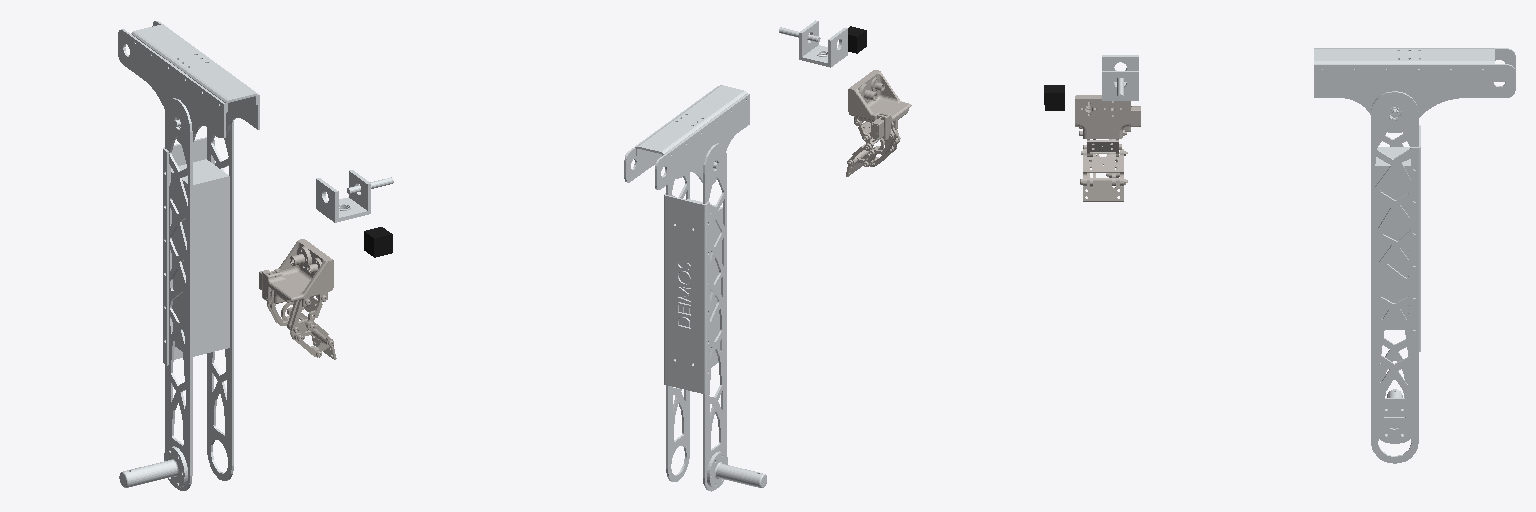
--- Facts derived from the render (not from the file) ---
Views: 3 orthographic renders of the robot side by side, from view 1: azimuth 30°, elevation 25°; view 2: azimuth 150°, elevation 25°; view 3: azimuth 270°, elevation 25°.
Model Arm_Urdf with 11 links and 10 joints (6 revolute, 2 prismatic, 2 fixed), rooted at world, posed all joints at 0.
Links seen in each view (by area): view 1: Link_2, Link_3, Gripper_1, Link_5, camera_link2; view 2: Link_2, Link_3, Gripper_1, Link_5; view 3: Link_2, Link_3, Gripper_1, Link_5, camera_link2.
Link boxes in pixels (x1,y1,x2,y2): Link_2: (119, 98, 233, 490); Link_3: (118, 21, 259, 144); Gripper_1: (259, 239, 336, 359); Link_5: (316, 170, 393, 222); camera_link2: (364, 227, 392, 257); Link_2: (664, 143, 766, 491); Link_3: (624, 85, 749, 189); Gripper_1: (846, 70, 911, 176); Link_5: (779, 20, 847, 67); Link_2: (1371, 91, 1420, 463); Link_3: (1314, 48, 1515, 132); Gripper_1: (1075, 95, 1140, 201); Link_5: (1102, 55, 1138, 100); camera_link2: (1044, 85, 1064, 110).
Bounding box of the posed robot: 0.1731 × 0.5855 × 0.5475 m (x, y, z).
4 mesh visuals loaded from 9 distinct referenced files (4 binary STL); not drawn: 5 (reference not matched to a file when rendering).

robot.urdf — Arm_Urdf:
<?xml version="1.0" encoding="utf-8" ?>
<!-- This URDF was automatically created by SolidWorks to URDF Exporter! Originally created by Stephen Brawner ([email redacted]) 
     Commit Version: 1.6.0-4-g7f85cfe  Build Version: 1.6.7995.38578
     For more information, please see http://wiki.ros.org/sw_urdf_exporter -->
<robot name="Arm_Urdf">
    <material name="black">
        <color rgba="0.15 0.15 0.15 1.0"/>
    </material>
    <link name="base_link">
        <inertial>
            <origin xyz="-0.0108454625152952 5.41174924359317E-05 0.006809784336333" rpy="0 0 0" />
            <mass value="0.77116648882986" />
            <inertia ixx="0.000698139677914449" ixy="-9.98098781596937E-09" ixz="-4.42589020292821E-09" iyy="0.000247085234791679" iyz="-7.75794099442475E-09" izz="0.000718421438540256" />
        </inertial>
        <visual>
            <origin xyz="0 0 0" rpy="0 0 0" />
            <geometry>
                <mesh filename="package://Arm_Urdf/meshes/base_link.STL" />
            </geometry>
            <material name="">
                <color rgba="0.650980392156863 0.619607843137255 0.588235294117647 1" />
            </material>
        </visual>
        <collision>
            <origin xyz="0 0 0" rpy="0 0 0" />
            <geometry>
                <mesh filename="package://Arm_Urdf/meshes/base_link.STL" />
            </geometry>
        </collision>
    </link>
    <link name="world" />
    <joint name="world_joint" type="fixed">
        <origin xyz="0 0 0.0" rpy="0 0 0" />
        <parent link="world" />
        <child link="base_link" />
    </joint>
    <link name="Link_1">
        <inertial>
            <origin xyz="0.00202559488051276 0.0292417340051791 0.0299779266003479" rpy="0 0 0" />
            <mass value="2.19576081627391" />
            <inertia ixx="0.00622314668686051" ixy="2.69943075030139E-08" ixz="-1.96744672740614E-07" iyy="0.00460468862088576" iyz="-6.43893757821027E-05" izz="0.00970799857789177" />
        </inertial>
        <visual>
            <origin xyz="0 0 0" rpy="0 0 0" />
            <geometry>
                <mesh filename="package://Arm_Urdf/meshes/Link_1.STL" />
            </geometry>
            <material name="">
                <color rgba="0.529411764705882 0.549019607843137 0.549019607843137 1" />
            </material>
        </visual>
        <collision>
            <origin xyz="0 0 0" rpy="0 0 0" />
            <geometry>
                <mesh filename="package://Arm_Urdf/meshes/Link_1.STL" />
            </geometry>
        </collision>
    </link>
    <joint name="Joint_1" type="revolute">
        <origin xyz="0 0 0.073" rpy="0 0 0" />
        <parent link="base_link" />
        <child link="Link_1" />
        <axis xyz="0 0 1" />
        <limit lower="-3.17" upper="3.17" effort="50" velocity="5" />
        <dynamics damping="0.5" friction="0.1"/>
    </joint>

    <!-- camera base left -->


    <!-- <joint name="camera_joint_base_left" type="fixed">
        <axis xyz="0 1 0"/>
        <origin rpy="0 0 -1.57" xyz="0.12 -0.15 0.02"/>
        <parent link="Link_1"/>
        <child link="camera_link_base_left"/>
    </joint>


    <link name="camera_link_base_left">
        <inertial>
            <mass value="1e-5"/>
            <origin rpy="0 0 0" xyz="0 -0.02 0.02"/>
            <inertia ixx="1e-6" ixy="0" ixz="0" iyy="1e-6" iyz="0" izz="1e-6"/>
        </inertial>
        <collision>
            <origin rpy="0 0 -1.570" xyz="0 0 0"/>
            <geometry>
                <box size="0.025 0.025 0.025"/>
            </geometry>
        </collision>
        <visual>
            <origin rpy="0 0 -1.570" xyz="0 0 0"/>
            <geometry>
                <box size="0.025 0.025 0.025"/>
            </geometry>
            <material name="black">
                <color rgba="1 1 1 1"/>
            </material>
        </visual>
    </link>

    <joint name="camera_optical_joint_base_left" type="fixed">
        <parent link="camera_link_base_left"/>
        <child link="camera_link_optical_base_left"/>
        <origin xyz="0 0 0" rpy="-1.5707963 0 -1.5707963"/>
    </joint>

    <link name="camera_link_optical_base_left"></link> -->


    <!-- camera base right -->


    <!-- <joint name="camera_base_joint_right" type="fixed">
        <axis xyz="0 1 0"/>
        <origin rpy="0 0 -1.57" xyz="-0.12 -0.15 0.1"/>
        <parent link="Link_1"/>
        <child link="camera_link_base_right"/>
    </joint>

    <link name="camera_link_base_right">
        <inertial>
            <mass value="1e-5"/>
            <origin rpy="0 0 0" xyz="0 -0.02 0.02"/>
            <inertia ixx="1e-6" ixy="0" ixz="0" iyy="1e-6" iyz="0" izz="1e-6"/>
        </inertial>
        <collision>
            <origin rpy="0 0 -1.570" xyz="0 0 0"/> 
            <geometry>
                <box size="0.025 0.025 0.025"/>
            </geometry>
        </collision>
        <visual>
            <origin rpy="0 0 -1.570" xyz="0 0 0"/>
            <geometry>
                <box size="0.025 0.025 0.025"/>
            </geometry>
            <material name="black">
                <color rgba="1 1 1 1"/>
            </material>
        </visual>
    </link> -->

    <!-- <joint name="camera_optical_joint_base_right" type="fixed">
        <parent link="camera_link_base_right"/>
        <child link="camera_link_optical_base_right"/>
        <origin xyz="0 0 0" rpy="-1.5707963 0 -1.5707963"/>
    </joint>

    <link name="camera_link_optical_base_right"></link> -->


    <!-- Add camera optical frame with standard computer vision orientation -->
    <!-- <joint name="camera_optical_joint" type="fixed">
    <origin rpy="-1.5707963 0 -1.5707963" xyz="0.0 0.0 0.0"/>
    <parent link="camera_link"/>
    <child link="camera_optical_link"/>
  </joint>
  <link name="camera_optical_link">
  </link> -->

    <link name="Link_2">
        <inertial>
            <origin xyz="0.0039680486454326 0.217484463914853 0.0226240865668204" rpy="0 0 0" />
            <mass value="0.696616277349387" />
            <inertia ixx="0.00867448656134372" ixy="-1.47433814721146E-05" ixz="-2.58004719868412E-09" iyy="0.000403909974825226" iyz="4.87457749930191E-10" izz="0.00872331013959563" />
        </inertial>
        <visual>
            <origin xyz="0 0 0" rpy="0 0 0" />
            <geometry>
                <mesh filename="package://Arm_Urdf/meshes/Link_2.STL" />
            </geometry>
            <material name="">
                <color rgba="0.898039215686275 0.917647058823529 0.929411764705882 1" />
            </material>
        </visual>

        <collision>
            <origin xyz="0 0 0" rpy="0 0 0" />
            <geometry>
                <mesh filename="package://Arm_Urdf/meshes/Link_2.STL" />
            </geometry>
        </collision>
    </link>

    <joint name="Joint_2" type="revolute">
        <origin xyz="-0.0299999999999999 0.114999999999999 0.0450000000000004" rpy="1.5707963267949 0 1.5707963267949" />
        <parent link="Link_1" />
        <child link="Link_2" />
        <axis xyz="0 0 -1" />
        <limit lower="-1.570" upper="1.57" effort="50" velocity="5" />
        <dynamics damping="0.5" friction="0.1"/>
    </joint>
    <link name="Link_3">
        <inertial>
            <origin xyz="0.0159437073865258 0.0399778044221051 0.000165930315254696" rpy="0 0 0" />
            <mass value="0.504770554183686" />
            <inertia ixx="0.000217244480297463" ixy="-3.21837262846156E-05" ixz="1.05210946108765E-18" iyy="0.00156585111098331" iyz="-2.22489334296148E-07" izz="0.00165843696768256" />
        </inertial>
        <visual>
            <origin xyz="0 0 0" rpy="0 0 0" />
            <geometry>
                <mesh filename="package://Arm_Urdf/meshes/Link_3.STL" />
            </geometry>
            <material name="">
                <color rgba="0.898039215686275 0.917647058823529 0.929411764705882 1" />
            </material>
        </visual>
        <collision>
            <origin xyz="0 0 0" rpy="0 0 0" />
            <geometry>
                <mesh filename="package://Arm_Urdf/meshes/Link_3.STL" />
            </geometry>
        </collision>
    </link>
    <joint name="Joint_3" type="revolute">
        <origin xyz="0 0.45 0.0301042347134805" rpy="0 0 0" />
        <parent link="Link_2" />
        <child link="Link_3" />
        <axis xyz="0 0 -1" />
        <limit lower="-1.00" upper="1.00" effort="50" velocity="5" />
        <dynamics damping="0.5" friction="0.10"/>
    </joint>
    <link name="Link_4">
        <inertial>
            <origin xyz="0.00264954149583032 0.00172553243144247 -0.256832165659789" rpy="0 0 0" />
            <mass value="0.739327182415655" />
            <inertia ixx="0.00148243608862922" ixy="-2.48364112345643E-07" ixz="-1.03283742873345E-07" iyy="0.00143272022403598" iyz="5.43371774425014E-06" izz="0.000309171282333902" />
        </inertial>
        <visual>
            <origin xyz="0 0 0" rpy="0 0 0" />
            <geometry>
                <mesh filename="package://Arm_Urdf/meshes/Link_4.STL" />
            </geometry>
            <material name="">
                <color rgba="0.898039215686275 0.917647058823529 0.929411764705882 1" />
            </material>
        </visual>
        <collision>
            <origin xyz="0 0 0" rpy="0 0 0" />
            <geometry>
                <mesh filename="package://Arm_Urdf/meshes/Link_4.STL" />
            </geometry>
        </collision>
    </link>
    <joint name="Joint_4" type="revolute">
        <origin xyz="0.0424999999995649 0.0399572355492206 0.000401106428108807" rpy="0 1.5707963267949 0" />
        <parent link="Link_3" />
        <child link="Link_4" />
        <axis xyz="0 0 1" />
        <limit lower="-3.17" upper="3.17" effort="50" velocity="5" />
        <dynamics damping="0.5" friction="0.1"/>
    </joint>
    <link name="Link_5">
        <inertial>
            <origin xyz="-3.16885406803635E-13 -0.00981221204232474 0.00224881068265584" rpy="0 0 0" />
            <mass value="0.0763957117756357" />
            <inertia ixx="3.83083473961502E-05" ixy="3.17560849313193E-16" ixz="2.01751281333396E-17" iyy="4.00747073118559E-05" iyz="-4.08795655667539E-17" izz="2.28558461666204E-05" />
        </inertial>
        <visual>
            <origin xyz="0 0 0" rpy="0 0 0" />
            <geometry>
                <mesh filename="package://Arm_Urdf/meshes/Link_5.STL" />
            </geometry>
            <material name="">
                <color rgba="0.898039215686275 0.917647058823529 0.929411764705882 1" />
            </material>
        </visual>
        <collision>
            <origin xyz="0 0 0" rpy="0 0 0" />
            <geometry>
                <mesh filename="package://Arm_Urdf/meshes/Link_5.STL" />
            </geometry>
        </collision>
    </link>
    <joint name="Joint_5" type="revolute">
        <origin xyz="-0.00649999999995384 0 -0.383499999999573" rpy="0 1.5707963267949 0" />
        <parent link="Link_4" />
        <child link="Link_5" />
        <axis xyz="0 0 1" />
        <limit lower="-0.065" upper="3.17" effort="50" velocity="5" />
        <dynamics damping="0.5" friction="0.10"/>
    </joint>
    <link name="Link_6">
        <inertial>
            <origin xyz="0.0135613456334422 -0.0265420912928073 0.0301408683365089" rpy="0 0 0" />
            <mass value="0.252745339929401" />
            <inertia ixx="0.000195067050160143" ixy="2.5230798194637E-05" ixz="6.2223463246536E-05" iyy="0.000903429764130728" iyz="-1.48620728173967E-05" izz="0.000993241239460536" />
        </inertial>
        <visual>
            <origin xyz="0 0 0" rpy="0 0 0" />
            <geometry>
                <mesh filename="package://Arm_Urdf/meshes/Link_6.STL" />
            </geometry>
            <material name="">
                <color rgba="0.898039215686275 0.917647058823529 0.929411764705882 1" />
            </material>
        </visual>
        <collision>
            <origin xyz="0 0 0" rpy="0 0 0" />
            <geometry>
                <mesh filename="package://Arm_Urdf/meshes/Link_6.STL" />
            </geometry>
        </collision>
    </link>
    <joint name="Joint_6" type="revolute">
        <origin xyz="0 -0.0199999999999119 0.00650441096988074" rpy="1.5707963267949 -1.5707963267949 0" />
        <parent link="Link_5" />
        <child link="Link_6" />
        <axis xyz="0 0 1" />
        <limit lower="-3.17" upper="3.17" effort="50" velocity="5" />
        <dynamics damping="0.5" friction="0.10"/>
    </joint>
    <joint name="camera_joint2" type="fixed">
        <axis xyz="0 1 0"/>
        <origin rpy="0 -1.57 1.57" xyz="0.0 -0.082 0.012"/>
        <parent link="Link_6"/>
        <child link="camera_link2"/>
    </joint>
    <link name="camera_link2">
        <inertial>
            <mass value="1e-5"/>
            <origin rpy="0 0 0" xyz="0.0 -0.082 0.012"/>
            <inertia ixx="1e-6" ixy="0" ixz="0" iyy="1e-6" iyz="0" izz="1e-6"/>
        </inertial>
        <collision>
            <origin rpy="0 0 0" xyz="0 0 0"/>
            <geometry>
                <box size="0.025 0.025 0.025"/>
            </geometry>
        </collision>
        <visual>
            <origin rpy="0 0 0" xyz="0 0 0"/>
            <geometry>
                <box size="0.025 0.025 0.025"/>
            </geometry>
            <material name="black"/>
        </visual>
    </link>
    <link name="Gripper_1">
        <inertial>
            <origin xyz="0.0204003994868009 0.0334764538131697 0.063230838084357" rpy="0 0 0" />
            <mass value="0.137742996071251" />
            <inertia ixx="5.29911205654385E-05" ixy="-1.12421617290008E-06" ixz="-2.49192530851908E-06" iyy="7.19109477567595E-05" iyz="-1.11448830844399E-05" izz="6.43837075224686E-05" />
        </inertial>
        <visual>
            <origin xyz="0 0 0" rpy="0 0 0" />
            <geometry>
                <mesh filename="package://Arm_Urdf/meshes/Gripper_1.STL" />
            </geometry>
            <material name="">
                <color rgba="0.776470588235294 0.756862745098039 0.737254901960784 1" />
            </material>
        </visual>
        <collision>
            <origin xyz="0 0 0" rpy="0 0 0" />
            <geometry>
                <mesh filename="package://Arm_Urdf/meshes/Gripper_1.STL" />
            </geometry>
        </collision>
    </link>
    <joint name="Finger_1" type="prismatic">
        <origin xyz="0.00534999999999963 -0.0390954035350414 0.0487946645392847" rpy="1.5707963267949 0 1.5707963267949" />
        <parent link="Link_6" />
        <child link="Gripper_1" />
        <axis xyz="0 0 -1" />
        <limit lower="0" upper="0.0355" effort="100" velocity="10" />
        <dynamics damping="0.5" friction="0.1" />
    </joint>
    <link name="Gripper_2">
        <inertial>
            <origin xyz="-0.0145607269510522 0.0386349312979239 -0.0735904539348097" rpy="0 0 0" />
            <mass value="0.153524806277575" />
            <inertia ixx="5.29298080219616E-05" ixy="1.90492712258527E-06" ixz="-3.08938743832324E-06" iyy="7.11796554106749E-05" iyz="1.10602892279447E-05" izz="6.37754371292033E-05" />
        </inertial>
        <visual>
            <origin xyz="0 0 0" rpy="0 0 0" />
            <geometry>
                <mesh filename="package://Arm_Urdf/meshes/Gripper_2.STL" />
            </geometry>
            <material name="">
                <color rgba="0.776470588235294 0.756862745098039 0.737254901960784 1" />
            </material>
        </visual>
        <collision>
            <origin xyz="0 0 0" rpy="0 0 0" />
            <geometry>
                <mesh filename="package://Arm_Urdf/meshes/Gripper_2.STL" />
            </geometry>
        </collision>
    </link>
    <joint name="Finger_2" type="prismatic">
        <dynamics damping="0.5" friction="0.1" />
        <origin xyz="0.00534999999999963 -0.0390954035350414 0.0487946645392847" rpy="1.5707963267949 0 1.5707963267949" />
        <parent link="Link_6" />
        <child link="Gripper_2" />
        <axis xyz="0 0 -1" />
        <limit lower="-0.0355" upper="0" effort="100" velocity="10" />
    </joint>
    <transmission name="trans_Joint_1">
        <type>transmission_interface/SimpleTransmission</type>
        <joint name="Joint_1">
            <hardwareInterface>hardware_interface/PositionJointInterface</hardwareInterface>
        </joint>
        <actuator name="Link_1_motor">
            <hardwareInterface>hardware_interface/PositionJointInterface</hardwareInterface>
            <mechanicalReduction>1</mechanicalReduction>
        </actuator>
    </transmission>
    <transmission name="trans_Joint_2">
        <type>transmission_interface/SimpleTransmission</type>
        <joint name="Joint_2">
            <hardwareInterface>hardware_interface/PositionJointInterface</hardwareInterface>
        </joint>
        <actuator name="Link_2_motor">
            <hardwareInterface>hardware_interface/PositionJointInterface</hardwareInterface>
            <mechanicalReduction>1</mechanicalReduction>
        </actuator>
    </transmission>
    <transmission name="trans_Joint_3">
        <type>transmission_interface/SimpleTransmission</type>
        <joint name="Joint_3">
            <hardwareInterface>hardware_interface/PositionJointInterface</hardwareInterface>
        </joint>
        <actuator name="Link_3_motor">
            <hardwareInterface>hardware_interface/PositionJointInterface</hardwareInterface>
            <mechanicalReduction>1</mechanicalReduction>
        </actuator>
    </transmission>
    <transmission name="trans_Joint_4">
        <type>transmission_interface/SimpleTransmission</type>
        <joint name="Joint_4">
            <hardwareInterface>hardware_interface/PositionJointInterface</hardwareInterface>
        </joint>
        <actuator name="Link_4_motor">
            <hardwareInterface>hardware_interface/PositionJointInterface</hardwareInterface>
            <mechanicalReduction>1</mechanicalReduction>
        </actuator>
    </transmission>
    <transmission name="trans_Joint_5">
        <type>transmission_interface/SimpleTransmission</type>
        <joint name="Joint_5">
            <hardwareInterface>hardware_interface/PositionJointInterface</hardwareInterface>
        </joint>
        <actuator name="Link_5_motor">
            <hardwareInterface>hardware_interface/PositionJointInterface</hardwareInterface>
            <mechanicalReduction>1</mechanicalReduction>
        </actuator>
    </transmission>
    <transmission name="trans_Joint_6">
        <type>transmission_interface/SimpleTransmission</type>
        <joint name="Joint_6">
            <hardwareInterface>hardware_interface/PositionJointInterface</hardwareInterface>
        </joint>
        <actuator name="Link_6_motor">
            <hardwareInterface>hardware_interface/PositionJointInterface</hardwareInterface>
            <mechanicalReduction>1</mechanicalReduction>
        </actuator>
    </transmission>
    <transmission name="trans_Finger_1">
        <type>transmission_interface/SimpleTransmission</type>
        <joint name="Finger_1">
            <hardwareInterface>hardware_interface/PositionJointInterface</hardwareInterface>
        </joint>
        <actuator name="Gripper_1_motor">
            <hardwareInterface>hardware_interface/PositionJointInterface</hardwareInterface>
            <mechanicalReduction>1</mechanicalReduction>
        </actuator>
    </transmission>
    <transmission name="trans_Finger_2">
        <type>transmission_interface/SimpleTransmission</type>
        <joint name="Finger_2">
            <hardwareInterface>hardware_interface/PositionJointInterface</hardwareInterface>
        </joint>
        <actuator name="Gripper_2_motor">
            <hardwareInterface>hardware_interface/PositionJointInterface</hardwareInterface>
            <mechanicalReduction>1</mechanicalReduction>
        </actuator>
    </transmission>
    <gazebo>
        <plugin name="gazebo_ros_control" filename="libgazebo_ros_control.so">
            <robotNamespace>/</robotNamespace>
        </plugin>
    </gazebo>


    <gazebo reference="camera_link_optical_base_left">
        <sensor type="camera" name="camera_base">
            <visualize>true</visualize>
            <update_rate>30.0</update_rate>
            <camera name="head">
                <horizontal_fov>1.3962634</horizontal_fov>
                <image>
                    <width>800</width>
                    <height>800</height>
                    <format>R8G8B8</format>
                </image>
                <clip>
                    <near>0.02</near>
                    <far>300</far>
                </clip>
                <noise>
                    <type>gaussian</type>
                    <!-- Noise is sampled independently per pixel on each frame.
                That pixel's noise value is added to each of its color
                channels, which at that point lie in the range [0,1]. -->
                    <mean>0.0</mean>
                    <stddev>0.007</stddev>
                </noise>
            </camera>
            <plugin name="camera_controller" filename="libgazebo_ros_camera.so">
                <alwaysOn>true</alwaysOn>
                <updateRate>0.0</updateRate>
                <cameraName>camera_base_left</cameraName>
                <imageTopicName>image_raw</imageTopicName>
                <cameraInfoTopicName>camera_info</cameraInfoTopicName>
                <frameName>camera_link_base_left</frameName>
                <hackBaseline>0.07</hackBaseline>
                <distortionK1>0.0</distortionK1>
                <distortionK2>0.0</distortionK2>
                <distortionK3>0.0</distortionK3>
                <distortionT1>0.0</distortionT1>
                <distortionT2>0.0</distortionT2>
            </plugin>
        </sensor>
    </gazebo>


    <gazebo reference="camera_link2">
        <sensor type="camera" name="camera_gripper">
            <visualize>true</visualize>
            <update_rate>30.0</update_rate>
            <camera name="head">
                <horizontal_fov>1.3962634</horizontal_fov>
                <image>
                    <width>800</width>
                    <height>800</height>
                    <format>R8G8B8</format>
                </image>
                <clip>
                    <near>0.02</near>
                    <far>300</far>
                </clip>
                <noise>
                    <type>gaussian</type>
                    <!-- Noise is sampled independently per pixel on each frame.
                That pixel's noise value is added to each of its color
                channels, which at that point lie in the range [0,1]. -->
                    <mean>0.0</mean>
                    <stddev>0.007</stddev>
                </noise>
            </camera>
            <plugin name="camera_controller" filename="libgazebo_ros_camera.so">
                <alwaysOn>true</alwaysOn>
                <updateRate>0.0</updateRate>
                <cameraName>camera_gripper</cameraName>
                <imageTopicName>image_raw</imageTopicName>
                <cameraInfoTopicName>camera_info</cameraInfoTopicName>
                <frameName>camera_link2</frameName>
                <hackBaseline>0.07</hackBaseline>
                <distortionK1>0.0</distortionK1>
                <distortionK2>0.0</distortionK2>
                <distortionK3>0.0</distortionK3>
                <distortionT1>0.0</distortionT1>
                <distortionT2>0.0</distortionT2>
            </plugin>
        </sensor>
    </gazebo>

    <gazebo reference="camera_link_optical_base_right">
        <sensor type="camera" name="camera_base_2">
            <visualize>true</visualize>
            <update_rate>30.0</update_rate>
            <camera name="head">
                <horizontal_fov>1.3962634</horizontal_fov>
                <image>
                    <width>800</width>
                    <height>800</height>
                    <format>R8G8B8</format>
                </image>
                <clip>
                    <near>0.02</near>
                    <far>300</far>
                </clip>
                <noise>
                    <type>gaussian</type>
                    <!-- Noise is sampled independently per pixel on each frame.
                That pixel's noise value is added to each of its color
                channels, which at that point lie in the range [0,1]. -->
                    <mean>0.0</mean>
                    <stddev>0.007</stddev>
                </noise>
            </camera>
            <plugin name="camera_controller" filename="libgazebo_ros_camera.so">
                <alwaysOn>true</alwaysOn>
                <updateRate>0.0</updateRate>
                <cameraName>camera_base_2</cameraName>
                <imageTopicName>image_raw</imageTopicName>
                <cameraInfoTopicName>camera_info</cameraInfoTopicName>
                <frameName>camera_base_right</frameName>
                <hackBaseline>0.07</hackBaseline>
                <distortionK1>0.0</distortionK1>
                <distortionK2>0.0</distortionK2>
                <distortionK3>0.0</distortionK3>
                <distortionT1>0.0</distortionT1>
                <distortionT2>0.0</distortionT2>
            </plugin>
        </sensor>
    </gazebo>
</robot>
